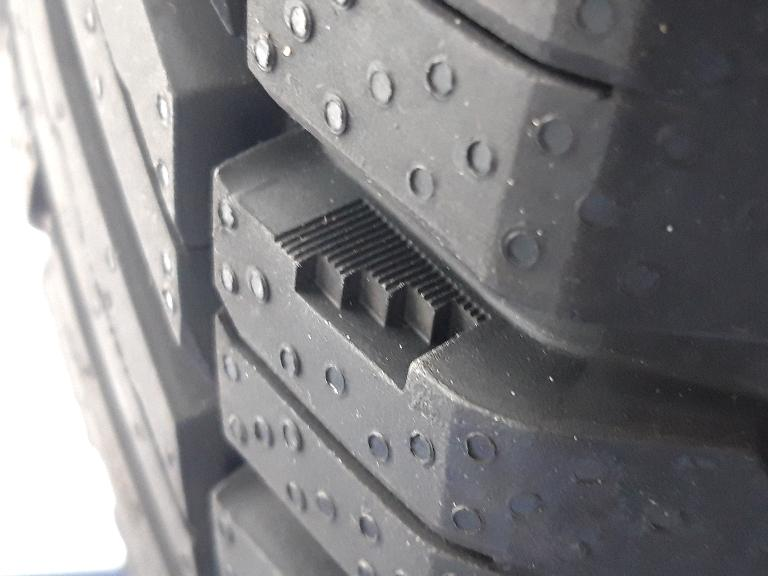temoin:100: (263, 189, 504, 405)
